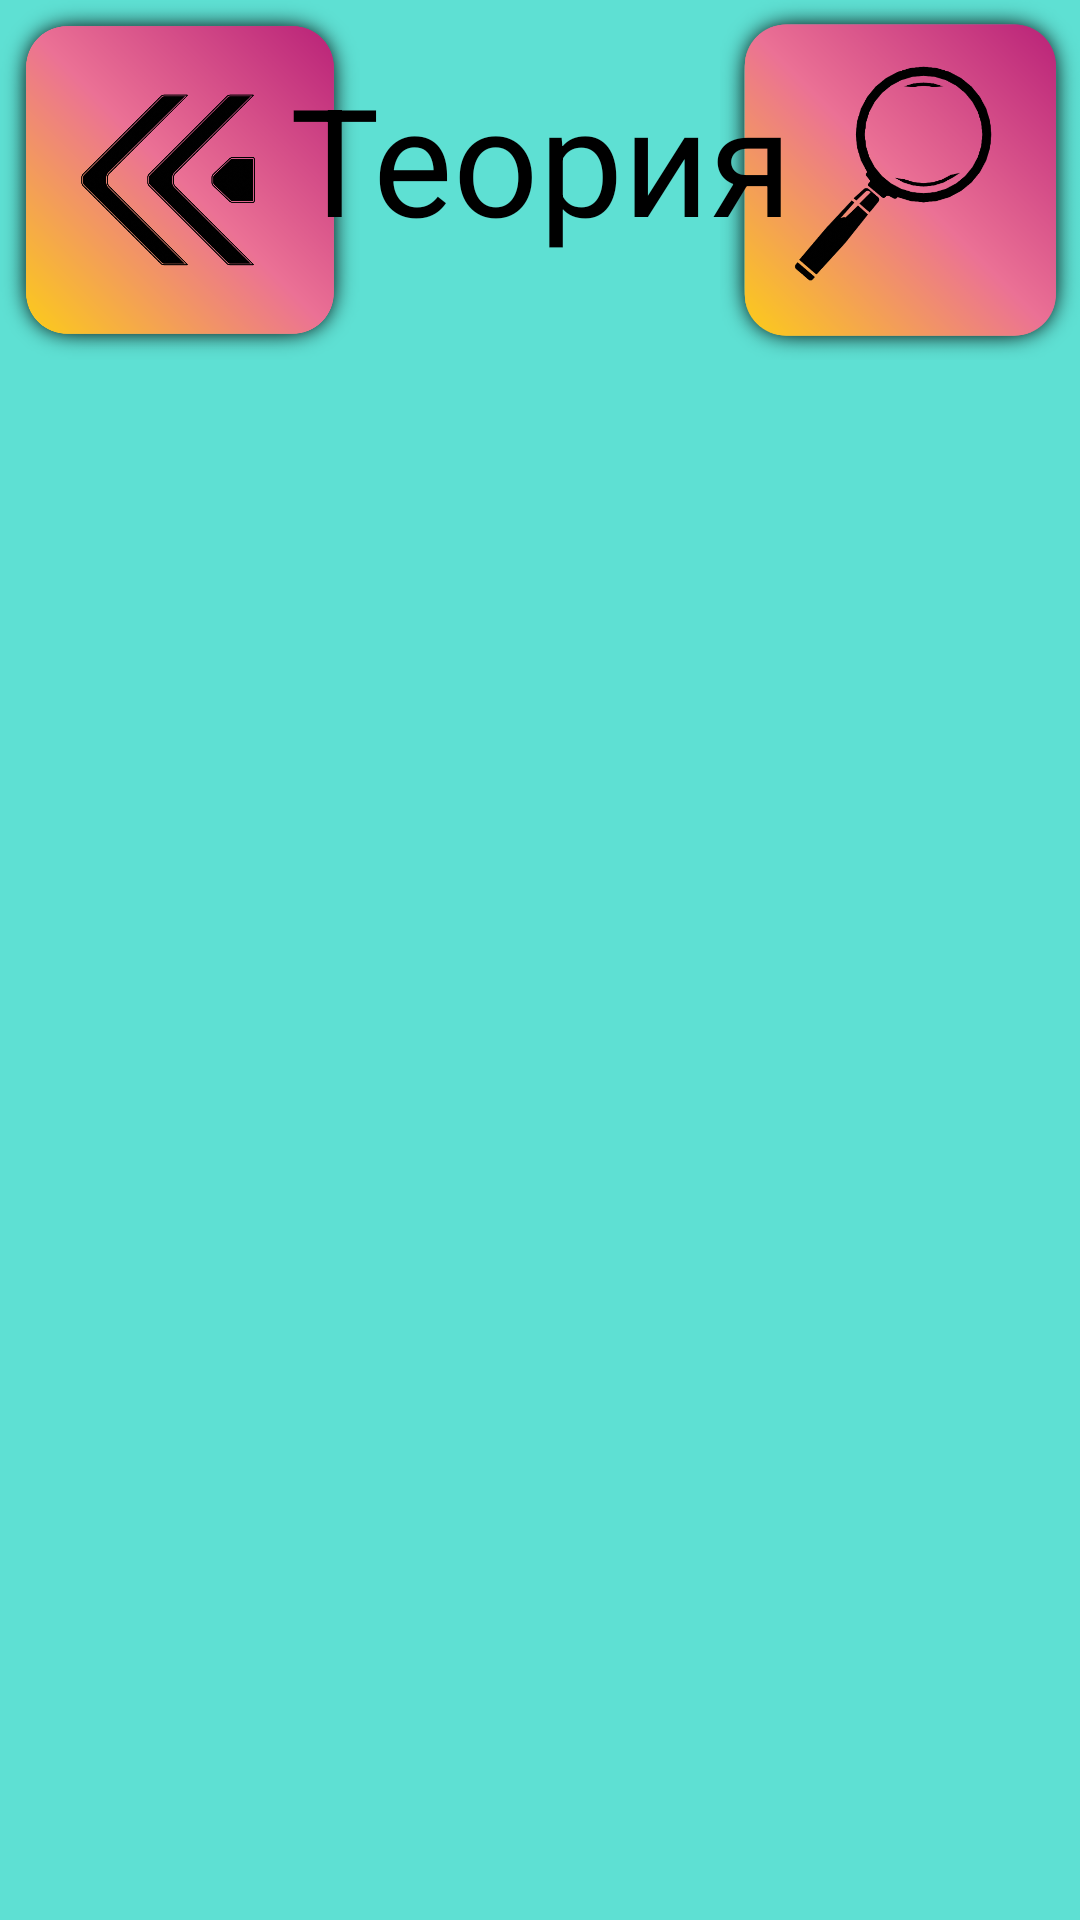

Point at icon controls on the screen. Image size 1080*1920, points as (x=x, y=y).
search: (x=894, y=180)
